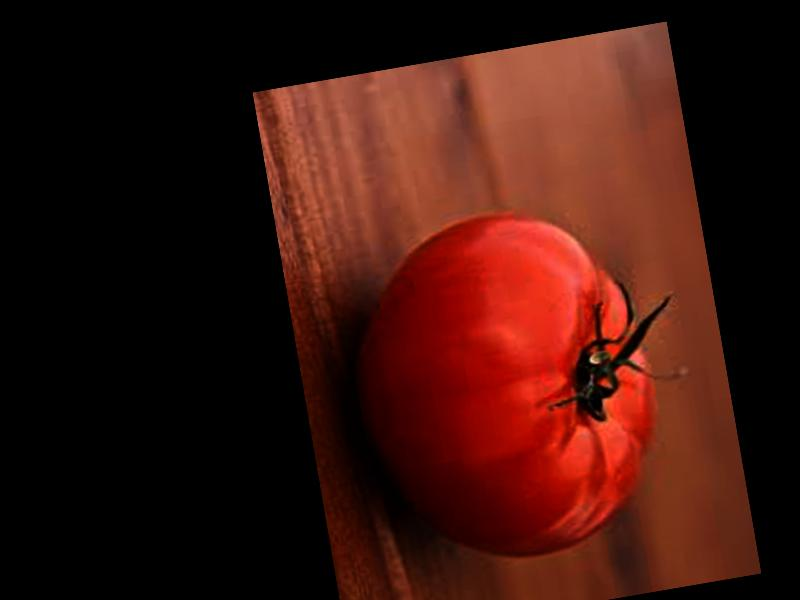Tomato: (331, 190, 676, 579)
